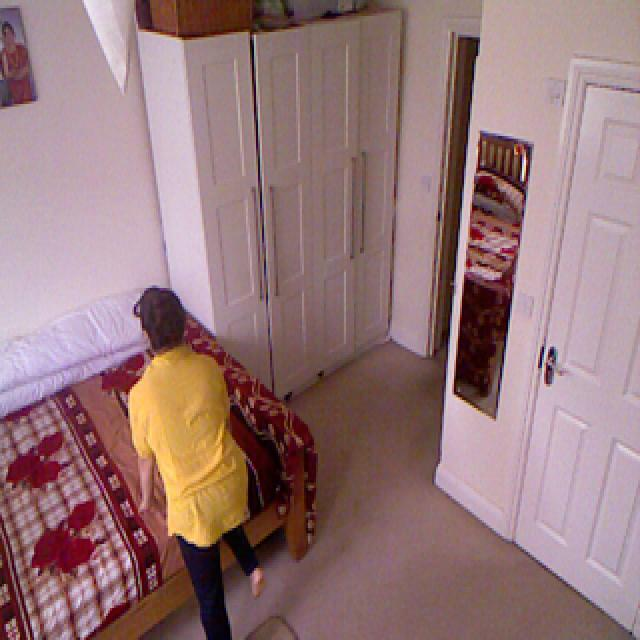bending: (125, 287, 267, 640)
